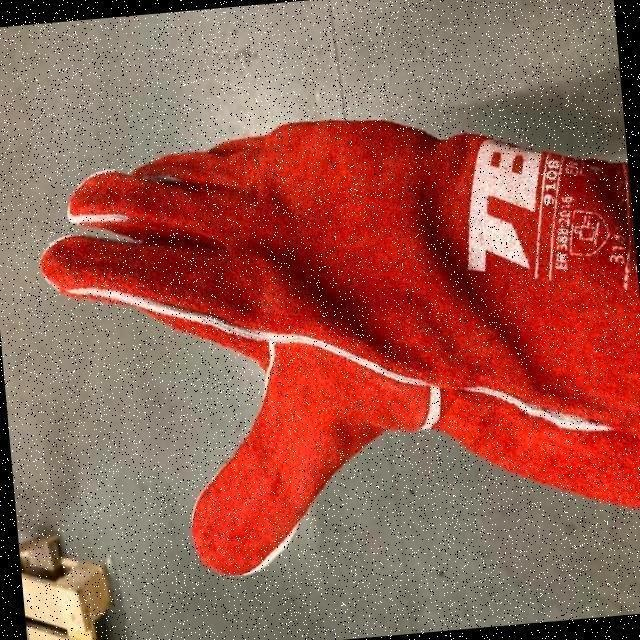Guantes: (37, 117, 639, 578)
